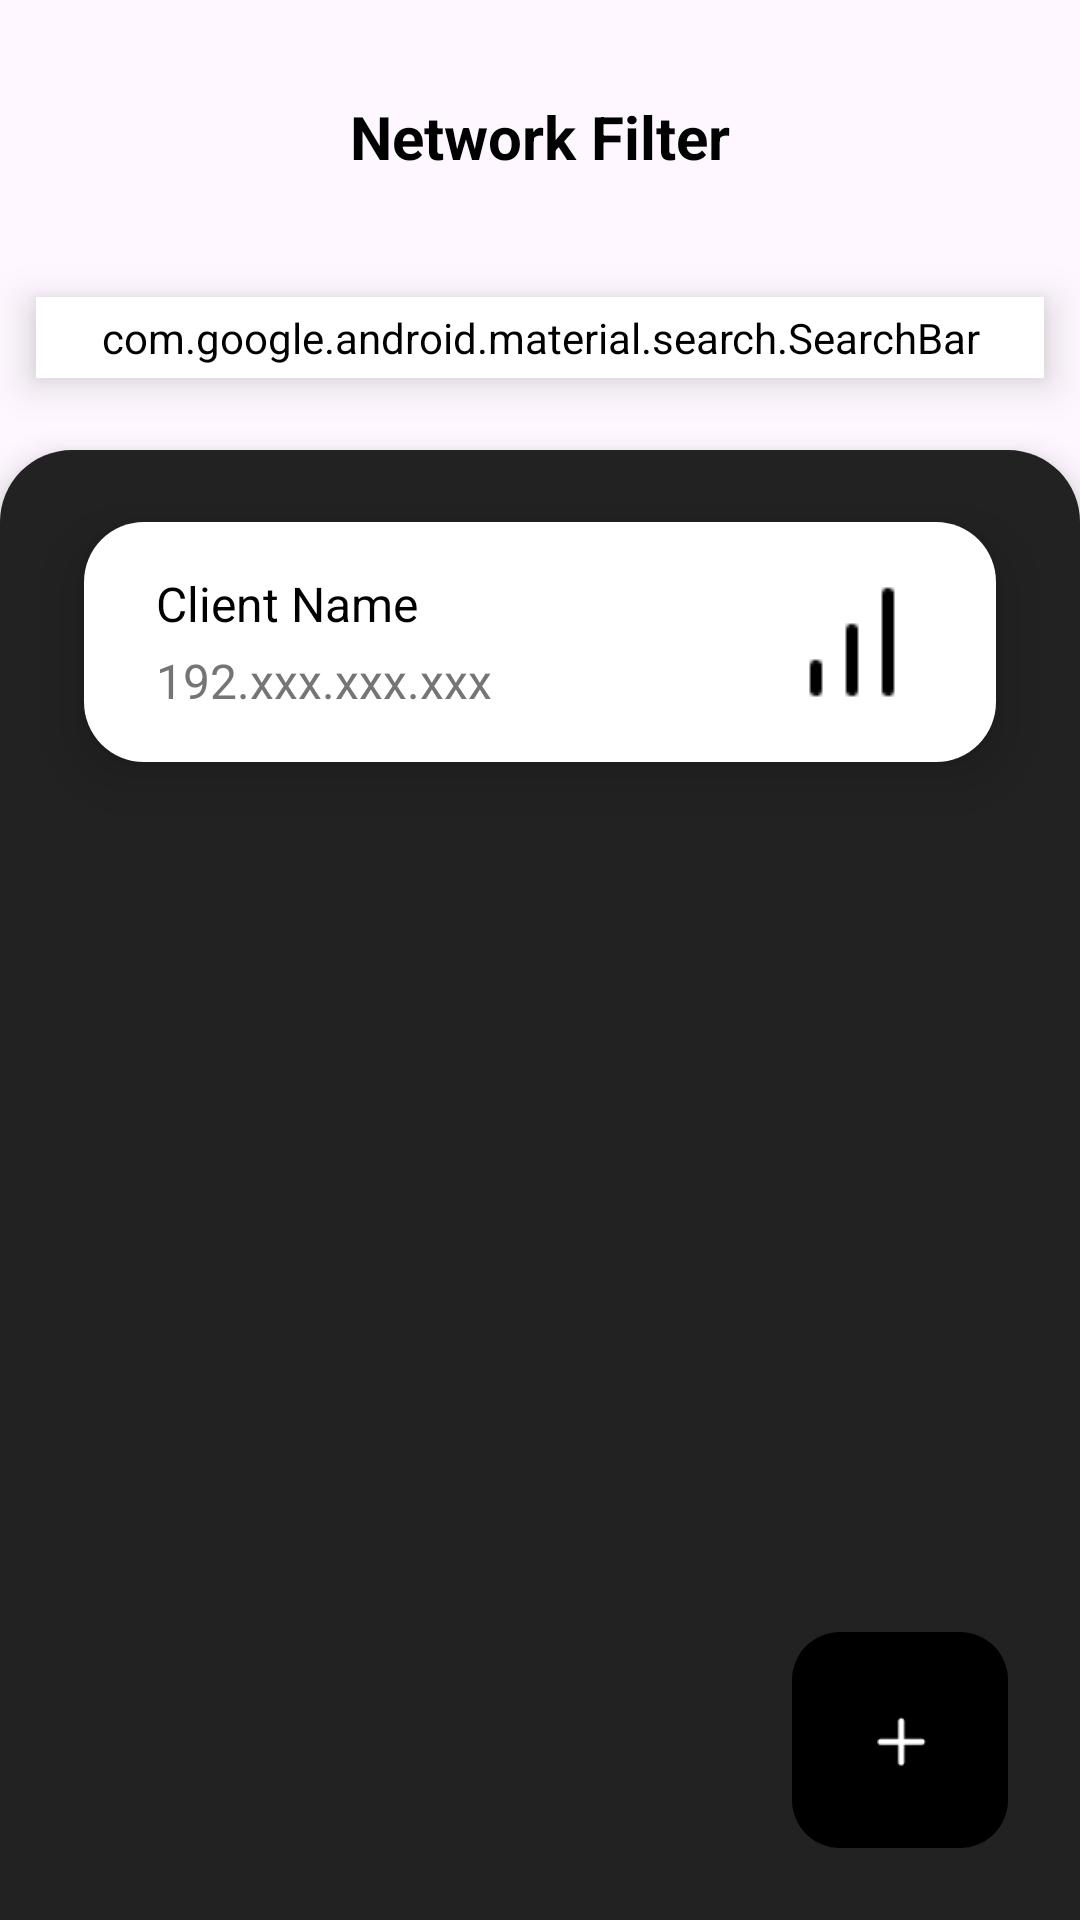

Locate icon controls on the screen. Image size 1080w x 1920h, boxes as (x1, y1, x2, y2).
Access Indicator: (809, 587, 895, 697)
Add New Client: (792, 1632, 1008, 1848)
